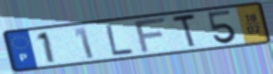1: (35, 30, 58, 65), (73, 26, 96, 60)
5: (205, 8, 237, 45)
F: (132, 16, 168, 55)
L: (104, 23, 136, 57)
T: (170, 12, 198, 50)
